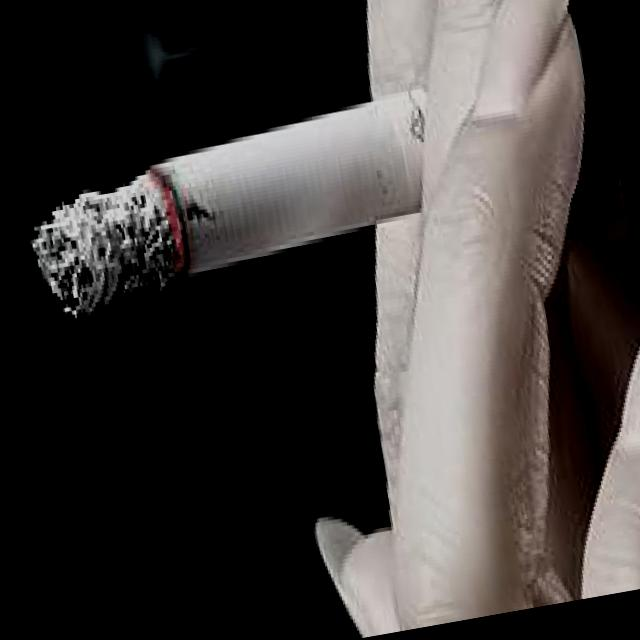cigarette: (13, 76, 434, 327)
